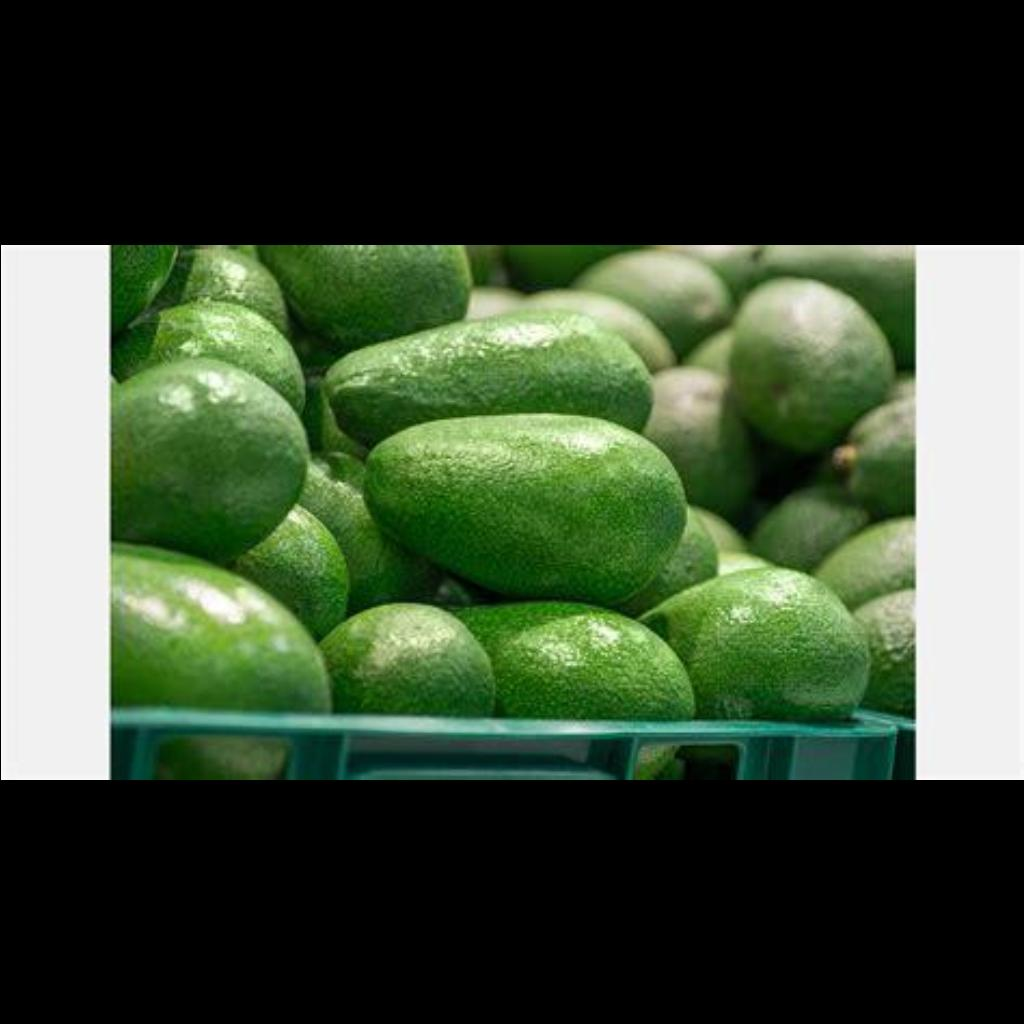Healthy: (350, 418, 708, 592), (114, 552, 336, 716), (334, 309, 660, 419), (114, 358, 310, 540), (464, 606, 688, 718), (726, 545, 870, 707)
